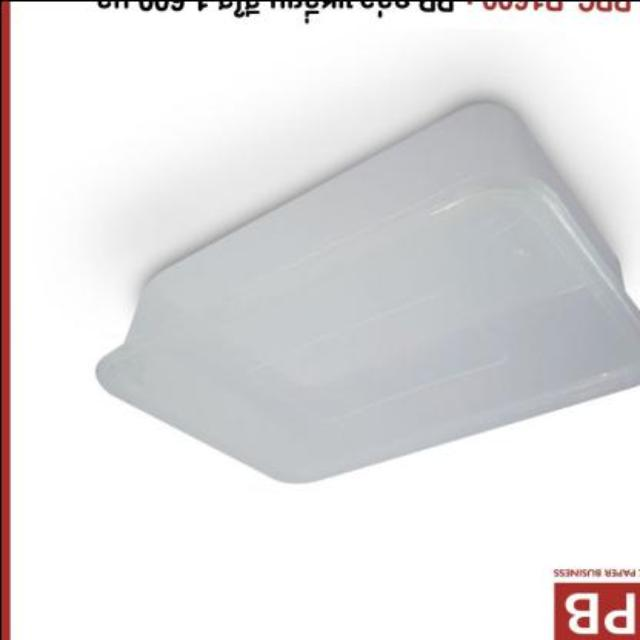plastic_box: (92, 96, 638, 488)
